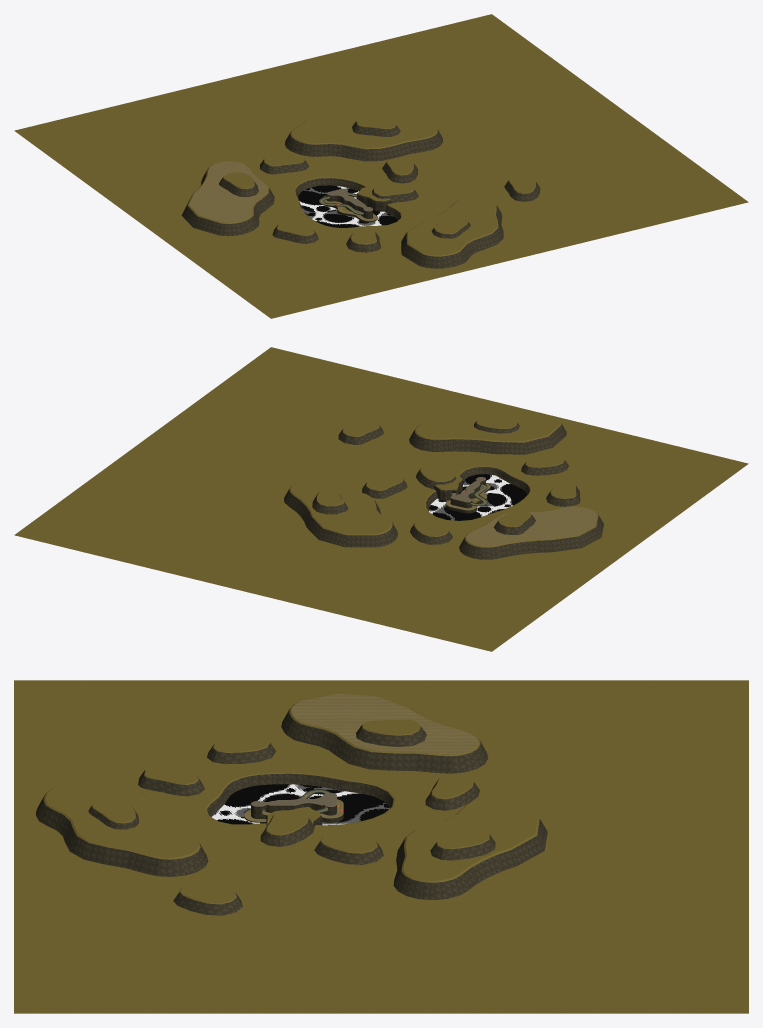
3 renders of one model, top to bottom at view 1: azimuth 30°, elevation 25°; view 2: azimuth 150°, elevation 25°; view 3: azimuth 270°, elevation 25°, orthographic. The views are drawn at different scales.
Visible parts, largest first — view 1: kcl_canyon_xops-SKP--Material1, kcl_canyon_xops-SKP--Material3, kcl_canyon_xops-SKP--Material2, kcl_canyon_xops-SKP--Material4; view 2: kcl_canyon_xops-SKP--Material1, kcl_canyon_xops-SKP--Material3, kcl_canyon_xops-SKP--Material2, kcl_canyon_xops-SKP--Material4; view 3: kcl_canyon_xops-SKP--Material1, kcl_canyon_xops-SKP--Material3, kcl_canyon_xops-SKP--Material2, kcl_canyon_xops-SKP--Material4, kcl_canyon_xops-SKP--Material11.
Part boxes in pixels (<box>): kcl_canyon_xops-SKP--Material1: <box>14,14,748,318</box>; kcl_canyon_xops-SKP--Material3: <box>181,121,540,268</box>; kcl_canyon_xops-SKP--Material2: <box>188,161,377,222</box>; kcl_canyon_xops-SKP--Material4: <box>298,185,397,227</box>; kcl_canyon_xops-SKP--Material1: <box>14,347,748,651</box>; kcl_canyon_xops-SKP--Material3: <box>284,421,603,559</box>; kcl_canyon_xops-SKP--Material2: <box>446,483,597,546</box>; kcl_canyon_xops-SKP--Material4: <box>428,474,526,520</box>; kcl_canyon_xops-SKP--Material1: <box>14,680,748,1013</box>; kcl_canyon_xops-SKP--Material3: <box>36,709,547,915</box>; kcl_canyon_xops-SKP--Material2: <box>244,693,478,821</box>; kcl_canyon_xops-SKP--Material4: <box>211,784,389,825</box>; kcl_canyon_xops-SKP--Material11: <box>251,793,336,806</box>.
Bounding box in the file's own units: 406609 × 22835 × 378939.
Materials: 13 (13 with a texture image).
